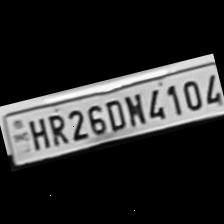0: (174, 74, 203, 112)
1: (158, 80, 183, 117)
2: (60, 104, 88, 142)
4: (140, 83, 168, 122), (196, 68, 222, 108)
6: (80, 100, 108, 137)
D: (98, 94, 128, 132)
H: (22, 113, 50, 151)
N: (119, 90, 147, 128)
R: (42, 108, 70, 148)
